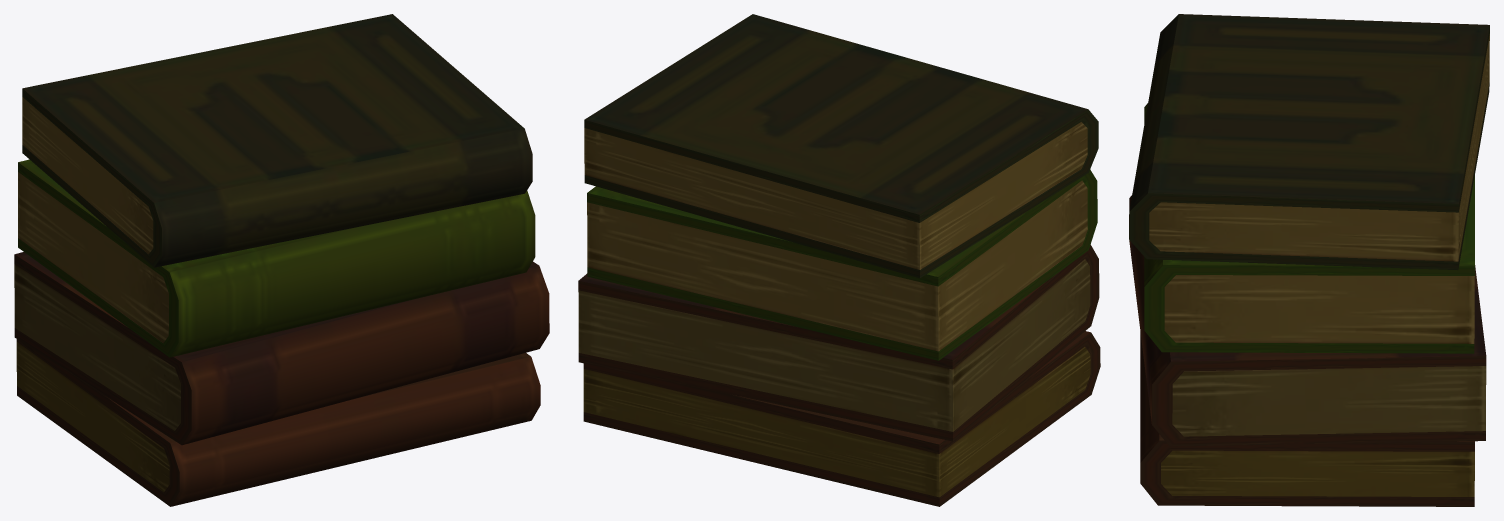
Rendered from prop_books.glb.
The picture shows the model from 3 angles, left to right: view 1: azimuth 30°, elevation 25°; view 2: azimuth 150°, elevation 25°; view 3: azimuth 270°, elevation 25°; orthographic projection. The views are drawn at different scales.
Visible parts, largest first — view 1: Book_Stack_1; view 2: Book_Stack_1; view 3: Book_Stack_1.
Part boxes in pixels (x1=…): Book_Stack_1: x1=14, y1=14, x2=549, y2=506; Book_Stack_1: x1=578, y1=14, x2=1100, y2=506; Book_Stack_1: x1=1129, y1=14, x2=1489, y2=506.
Size of the model in its own units: 0.2849 by 0.2137 by 0.2263.
1 material, 1 textured.
